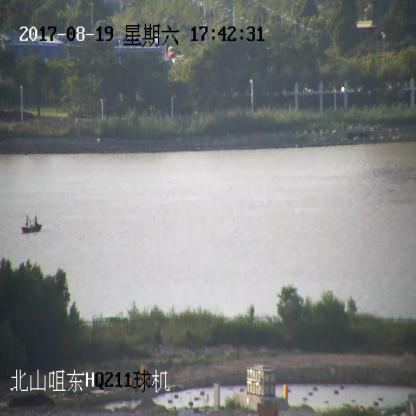Fishing Boat: (21, 214, 42, 234)
